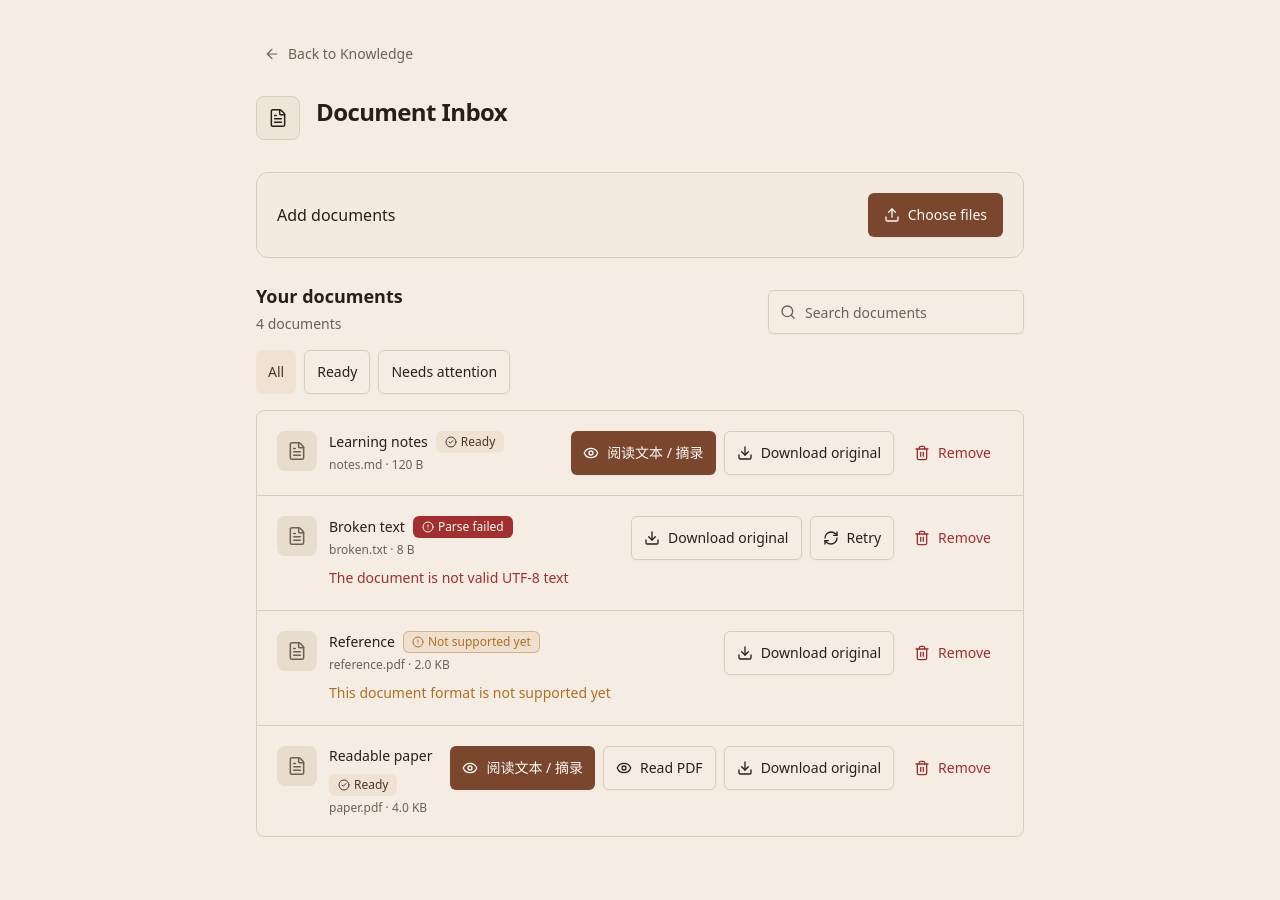
Test: Knowledge page › opens the focused PDF reader with simple page controls
The width and height of the screenshot is (1280, 900).
Click the button "Read PDF". click: (659, 768)
box: [603,746,716,790]
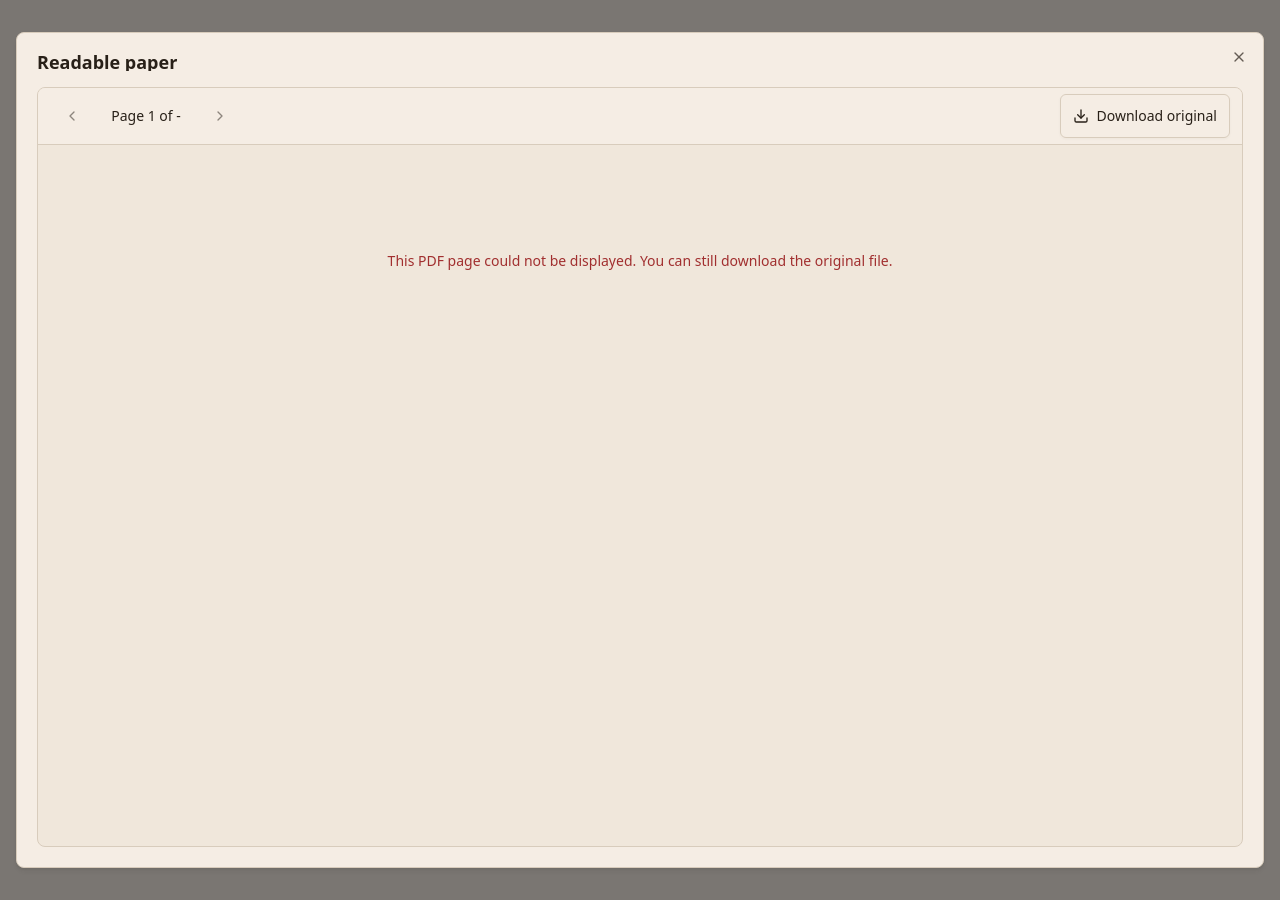
Now the dialog is shown
Now the heading "Readable paper" is shown, box [37,53,1203,71]
Now the link "Download original" is shown, box [1060,94,1230,138]
